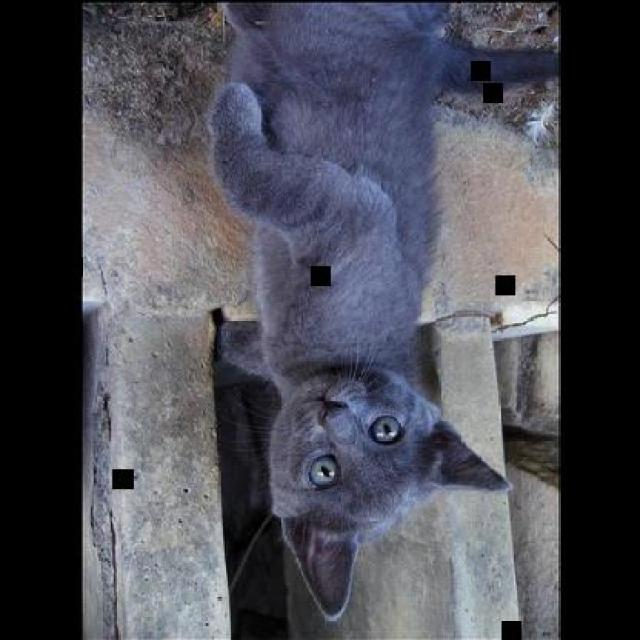unauthorized: (207, 0, 516, 620)
